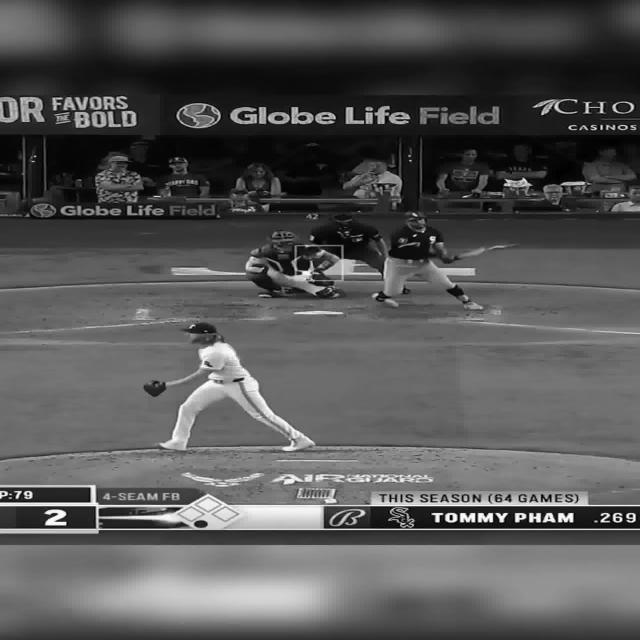baseball_glove: (142, 380, 166, 397)
bat: (454, 242, 522, 258)
shoe: (281, 436, 315, 452), (372, 292, 398, 308), (313, 286, 341, 298), (158, 441, 188, 451), (461, 300, 483, 310), (257, 289, 283, 297)
